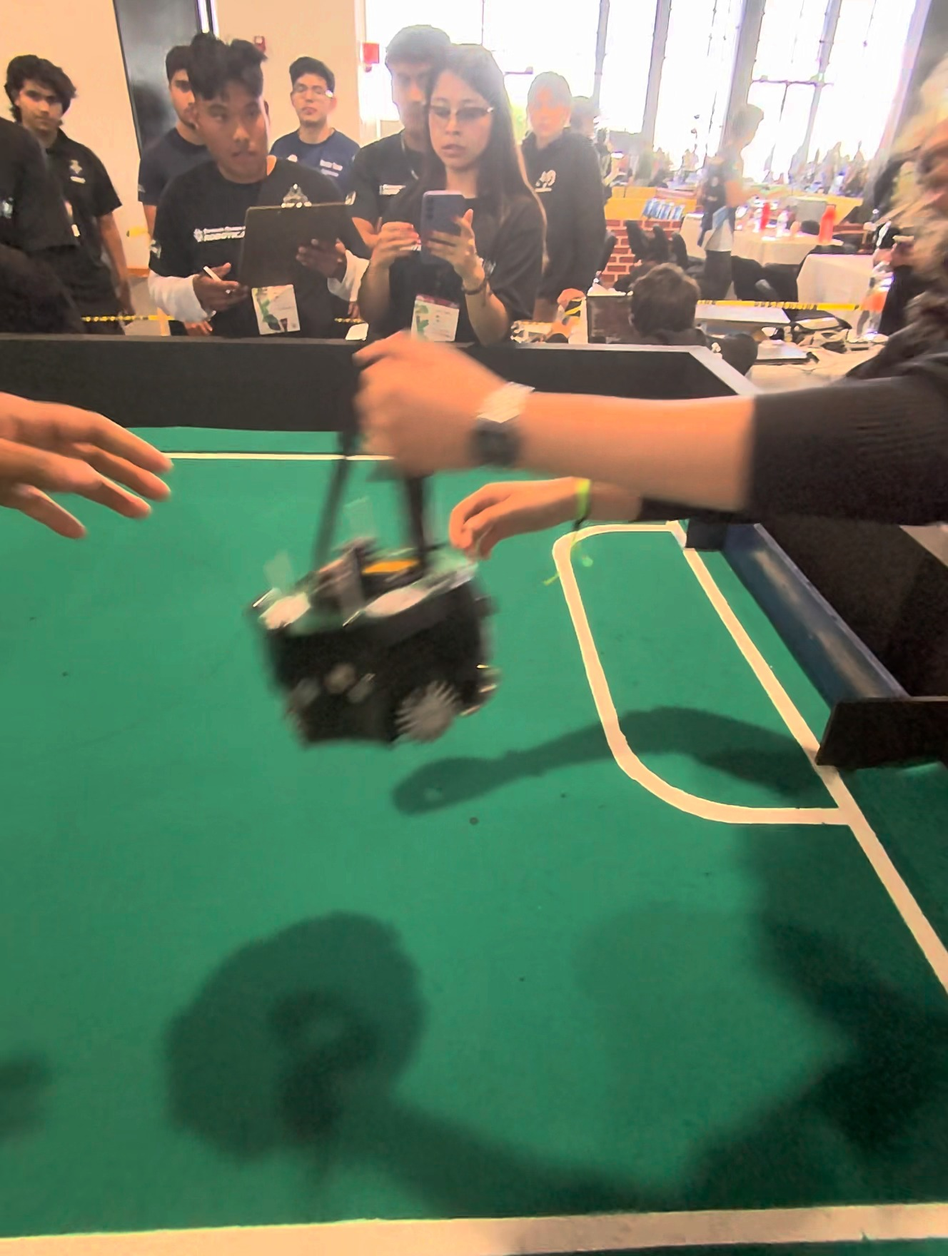Robot: (238, 308, 518, 794)
